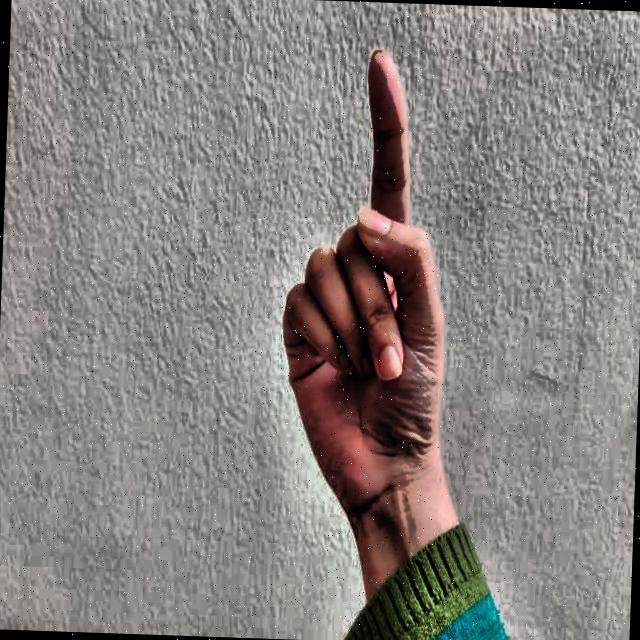U: (239, 27, 481, 527)
